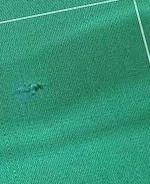knot: (24, 81, 48, 97)
